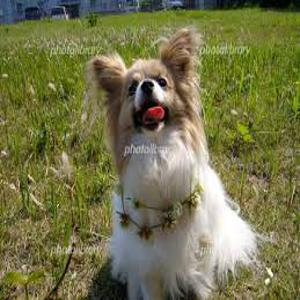yell: (91, 27, 259, 300)
